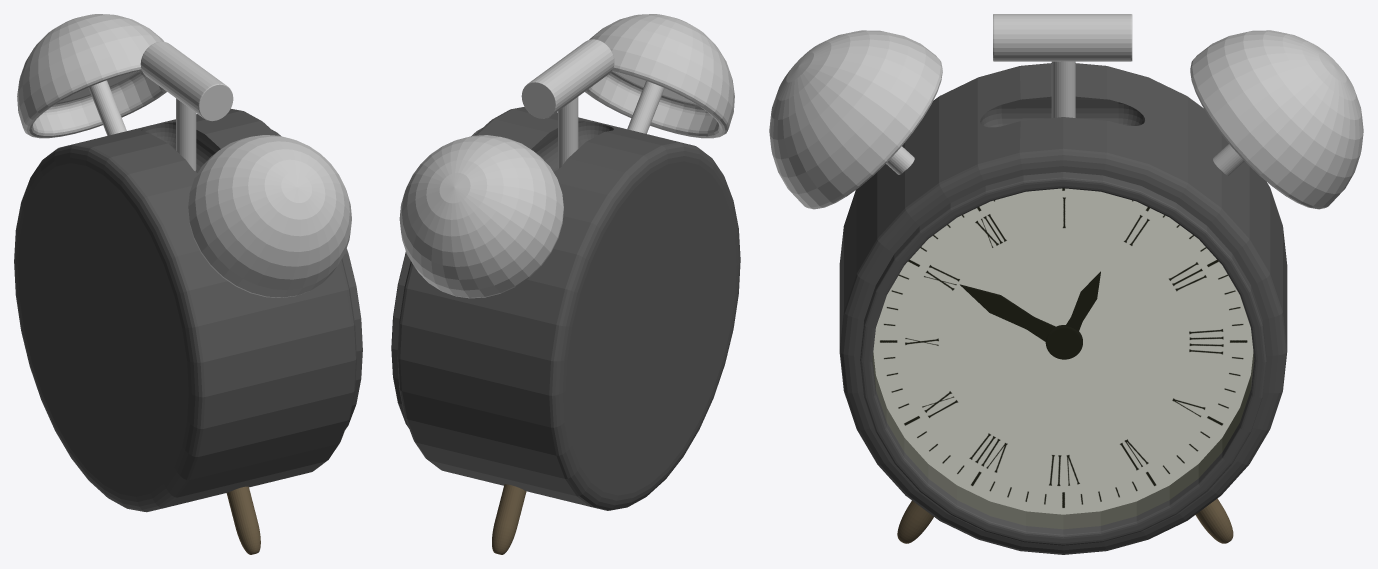
File: AlarmClock.fbx
3 renders of one model, left to right at view 1: azimuth 30°, elevation 25°; view 2: azimuth 150°, elevation 25°; view 3: azimuth 270°, elevation 25°, orthographic. The views are drawn at different scales.
Visible parts, largest first — view 1: Cylinder, Sphere, Sphere.001, Cylinder.002, Cylinder.005, Cylinder.001, Cylinder.003; view 2: Cylinder, Sphere.001, Sphere, Cylinder.002, Cylinder.006, Cylinder.001, Cylinder.004; view 3: Cylinder, Sphere, Sphere.001, Cylinder.002, Cube, Cylinder.001, BézierCircle, Cylinder.006, Cylinder.005, Cube.001.
Part boxes in pixels (x1,y1,x2,y2): Cylinder: [14, 109, 362, 512]; Sphere: [188, 135, 351, 297]; Sphere.001: [17, 14, 166, 138]; Cylinder.002: [140, 41, 233, 121]; Cylinder.005: [226, 486, 260, 554]; Cylinder.001: [176, 98, 196, 171]; Cylinder.003: [88, 80, 126, 135]; Cylinder: [391, 107, 740, 510]; Sphere.001: [399, 135, 563, 298]; Sphere: [585, 14, 734, 138]; Cylinder.002: [521, 39, 614, 118]; Cylinder.006: [492, 484, 526, 554]; Cylinder.001: [558, 97, 578, 168]; Cylinder.004: [627, 81, 664, 133]; Cylinder: [839, 63, 1287, 554]; Sphere: [769, 30, 942, 209]; Sphere.001: [1190, 30, 1363, 209]; Cylinder.002: [993, 14, 1132, 61]; Cube: [960, 284, 1055, 341]; Cylinder.001: [1051, 61, 1075, 117]; BézierCircle: [1045, 325, 1082, 359]; Cylinder.006: [1195, 498, 1233, 543]; Cylinder.005: [897, 500, 933, 543]; Cube.001: [1065, 271, 1100, 331].
Bounding box in the file's own units: 123 × 297 × 304.
